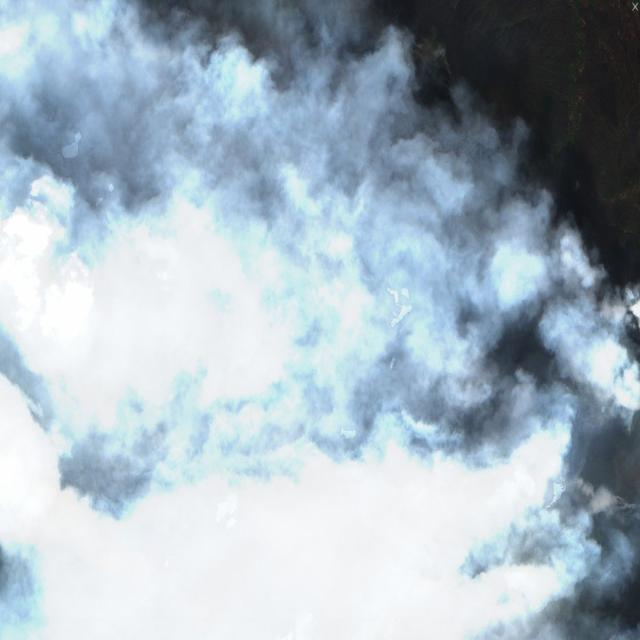fire: (8, 0, 252, 332), (153, 376, 320, 640), (559, 340, 640, 541)
